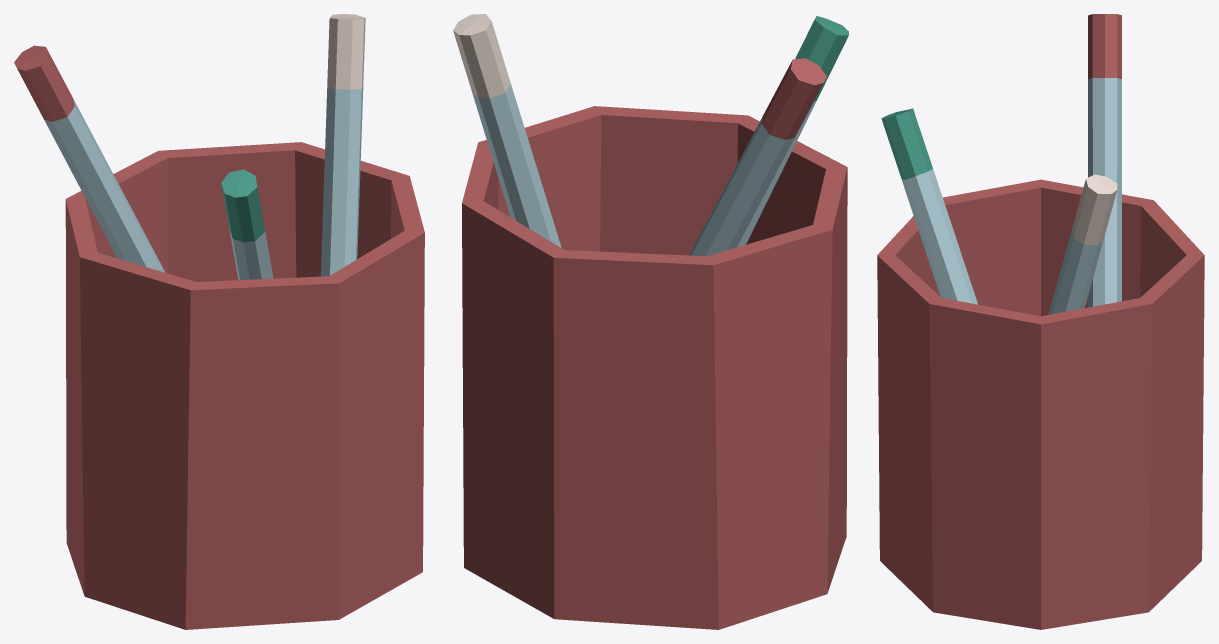
File: Pens_4.fbx
3 views of the same model, side by side, from view 1: azimuth 30°, elevation 25°; view 2: azimuth 150°, elevation 25°; view 3: azimuth 270°, elevation 25° (orthographic). The views are drawn at different scales.
Visible parts, largest first — view 1: Pens_4; view 2: Pens_4; view 3: Pens_4.
Part boxes in pixels (x1=…): Pens_4: x1=14, y1=14, x2=424, y2=629; Pens_4: x1=453, y1=14, x2=848, y2=629; Pens_4: x1=877, y1=14, x2=1204, y2=629.
Size of the model in its own units: 21.88 by 19.22 by 31.07.
